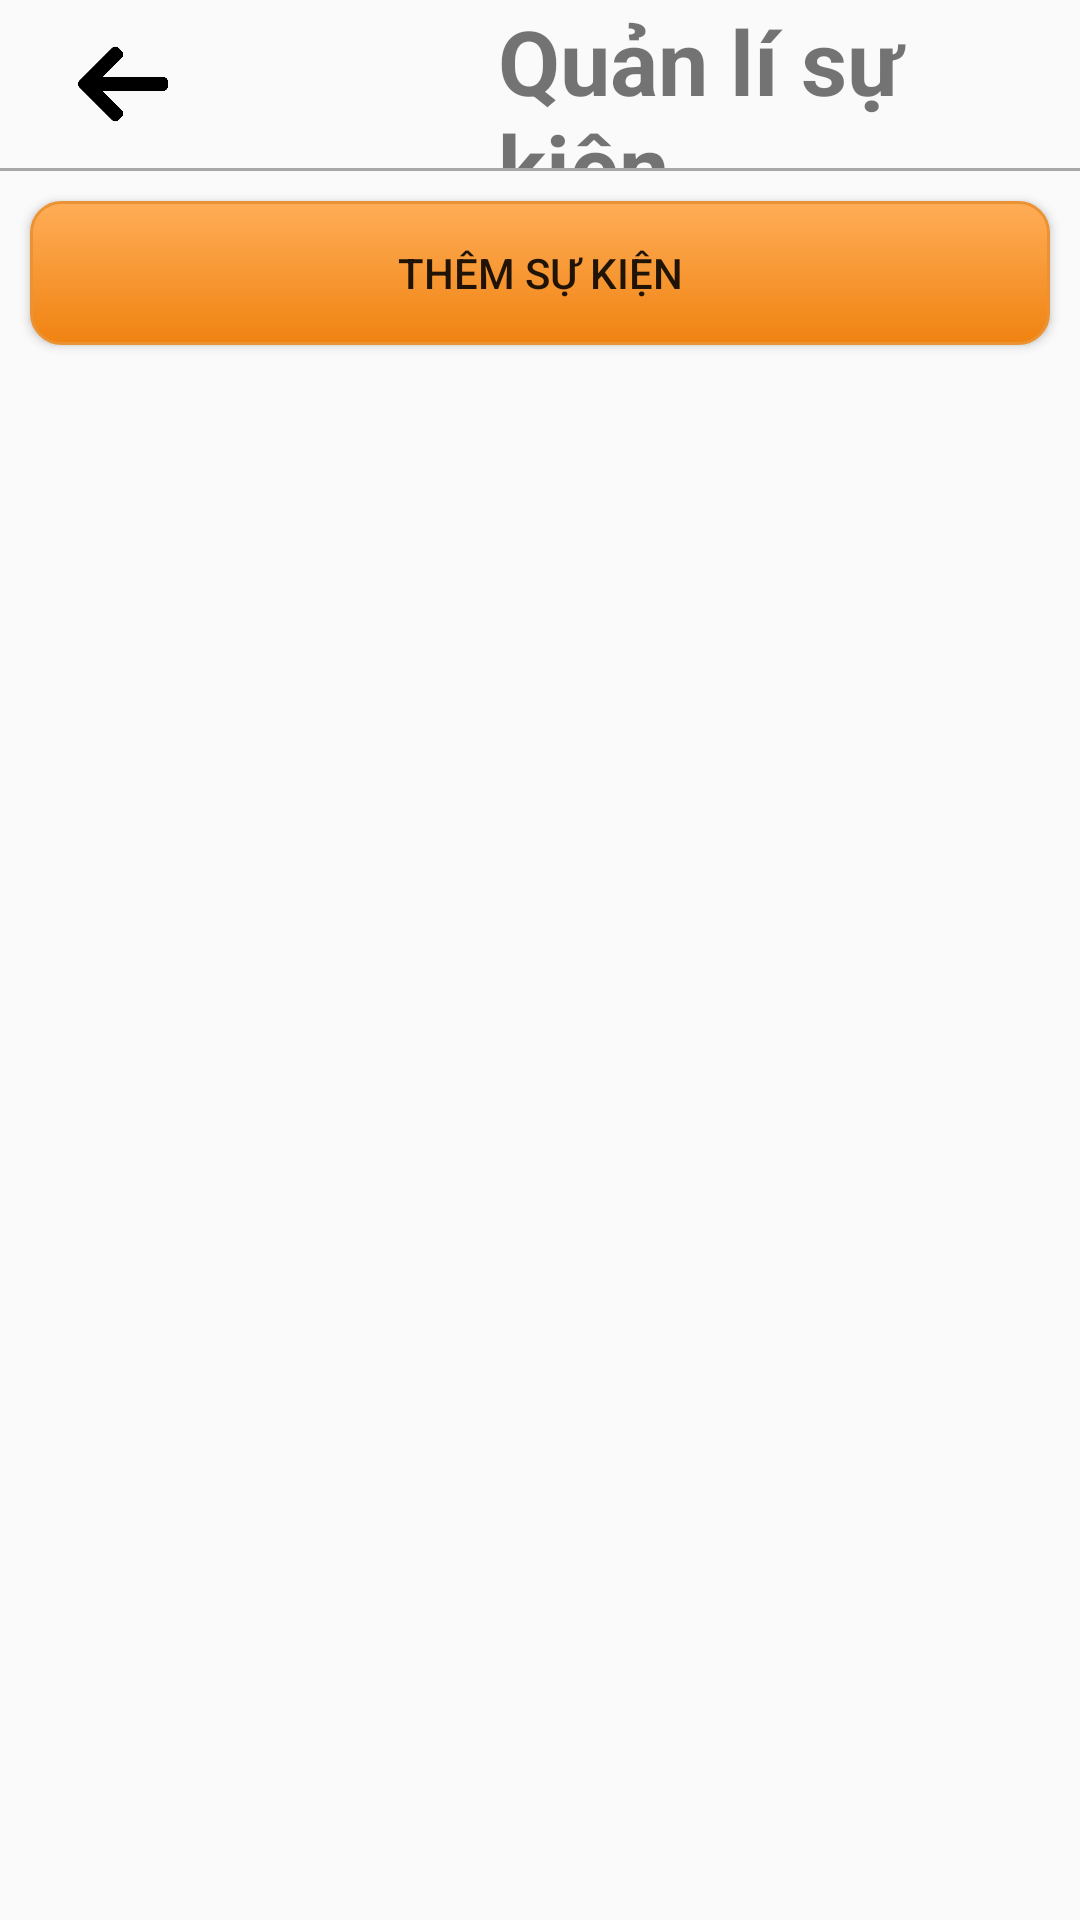

Point at icon controls on the screen. Image size 1080 x 1920, points as (x,y).
left arrow: (123,84)
